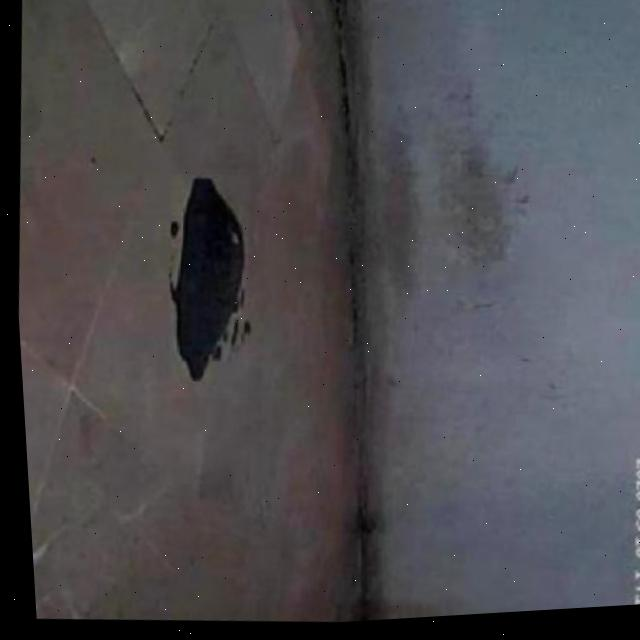spillage: (166, 177, 245, 398)
